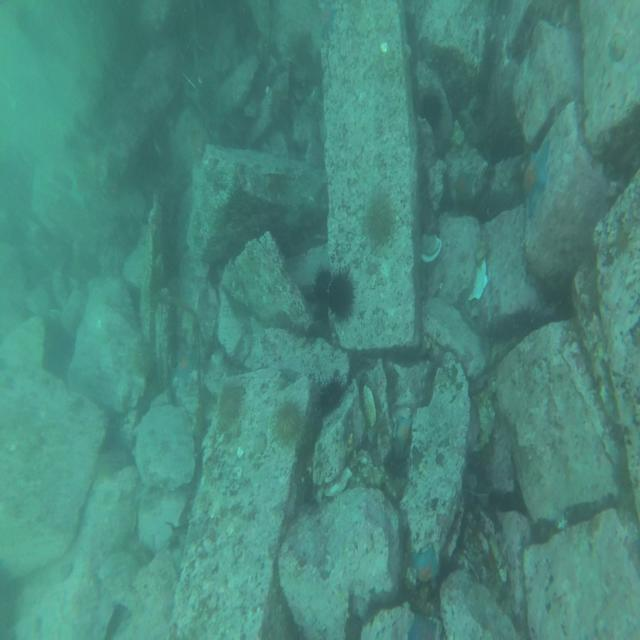echinus: (363, 193, 398, 248), (46, 320, 74, 362), (289, 28, 315, 71), (329, 273, 357, 312), (275, 400, 301, 441), (419, 86, 443, 128), (316, 376, 346, 408), (220, 385, 242, 418), (313, 270, 326, 301)
scallop: (468, 254, 490, 305), (361, 380, 379, 430), (419, 228, 443, 261)
starfish: (519, 142, 551, 216), (172, 341, 197, 385), (413, 550, 443, 586), (394, 411, 411, 450)
